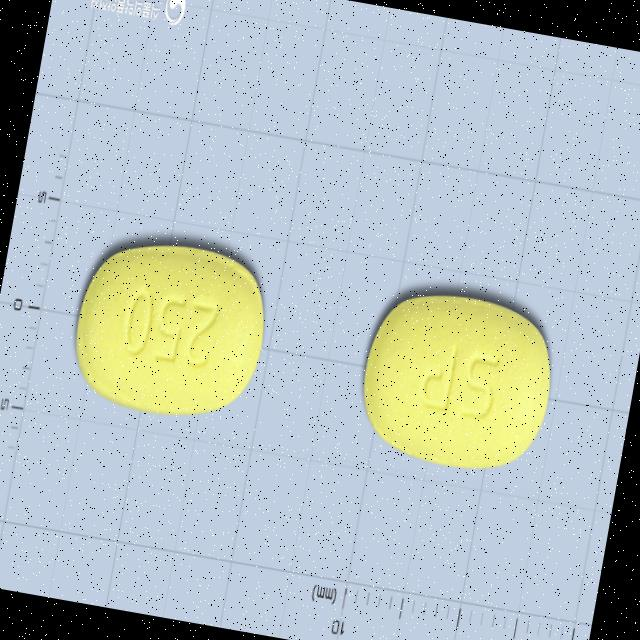Clocin Film Coated Tab: (62, 228, 276, 432), (350, 279, 564, 482)
